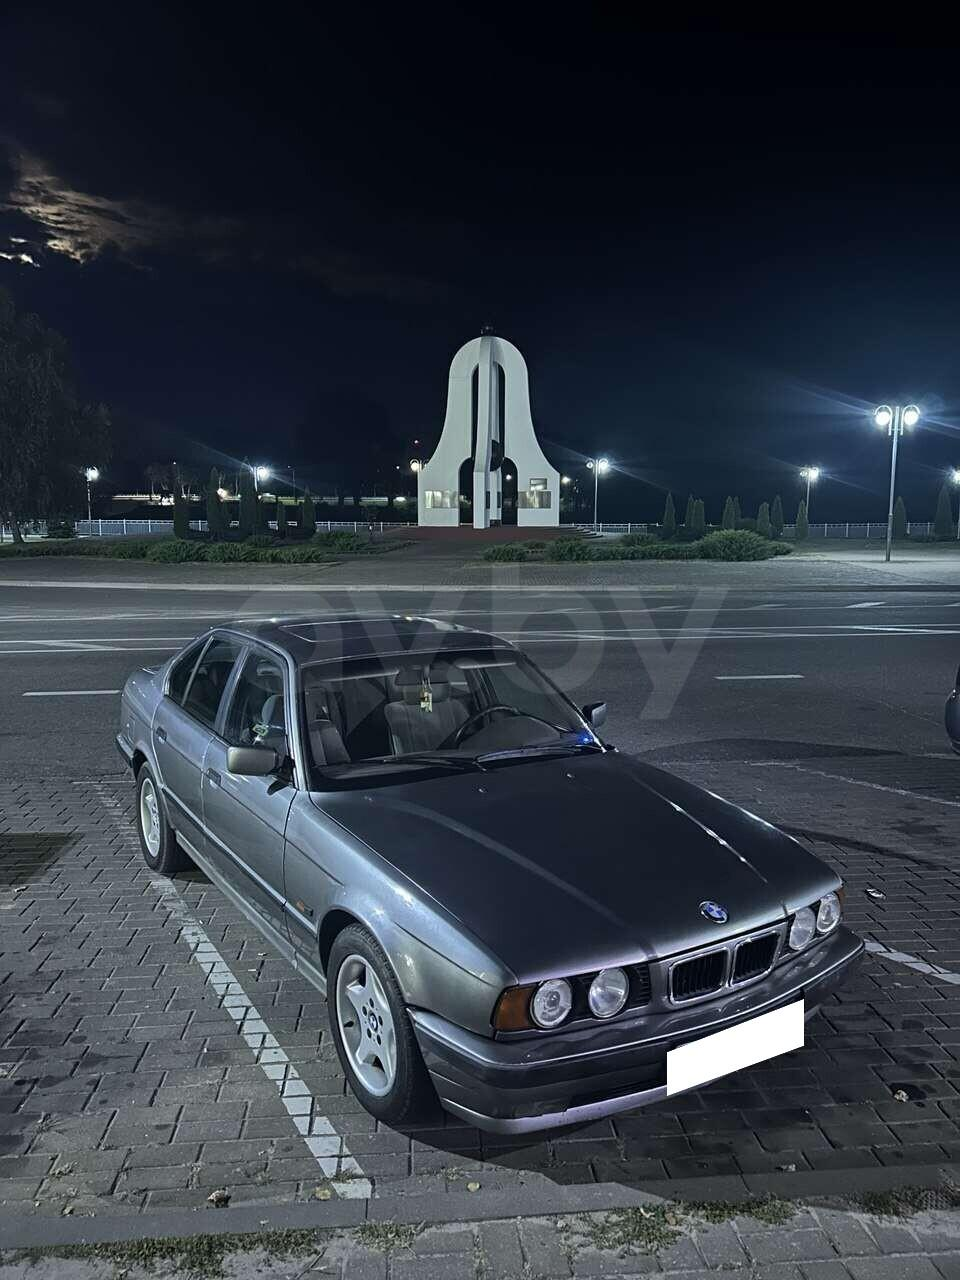BMW_E34_1995_2800: (107, 605, 875, 1145)
